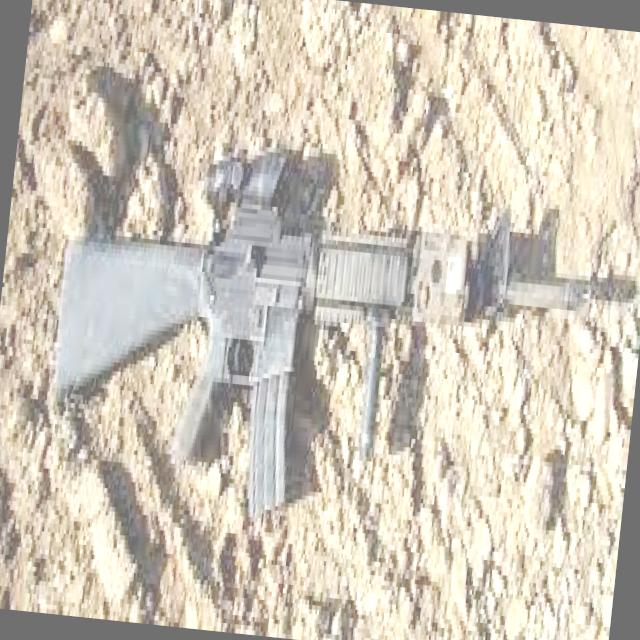m16: (23, 113, 620, 532)
